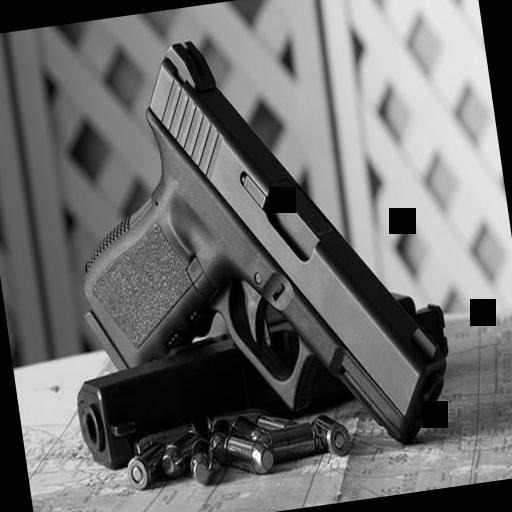Handgun: (46, 10, 456, 487), (64, 284, 458, 470)
